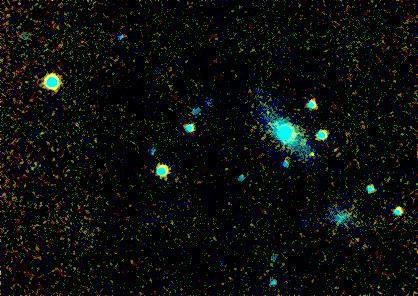star: (296, 135, 326, 165)
